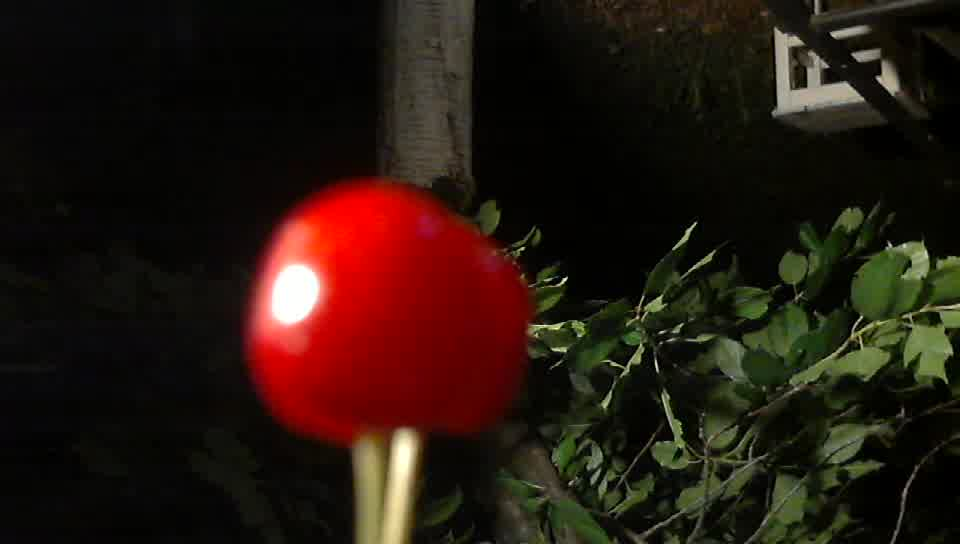Cherry: (186, 148, 556, 468)
